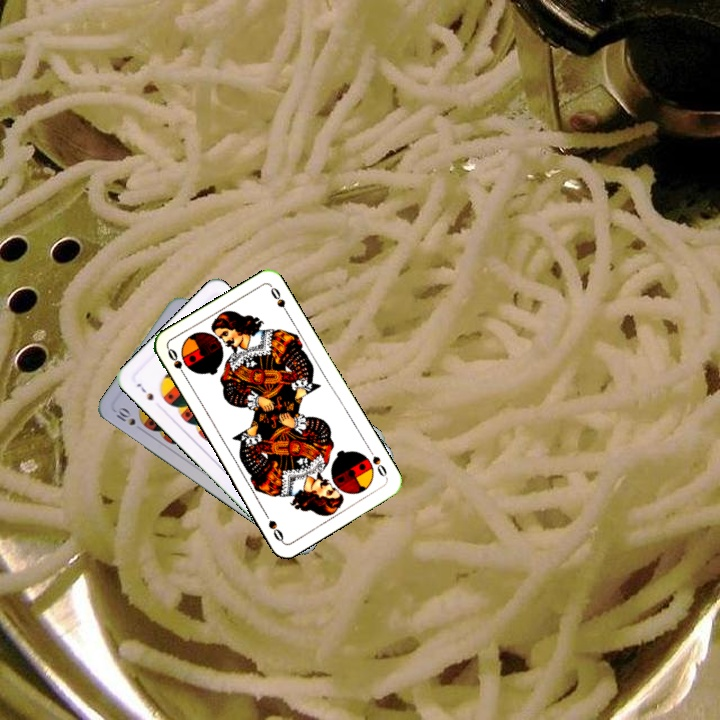S10: (112, 403, 146, 434)
S7: (132, 379, 156, 404)
SO: (163, 344, 190, 382), (364, 444, 390, 481)
